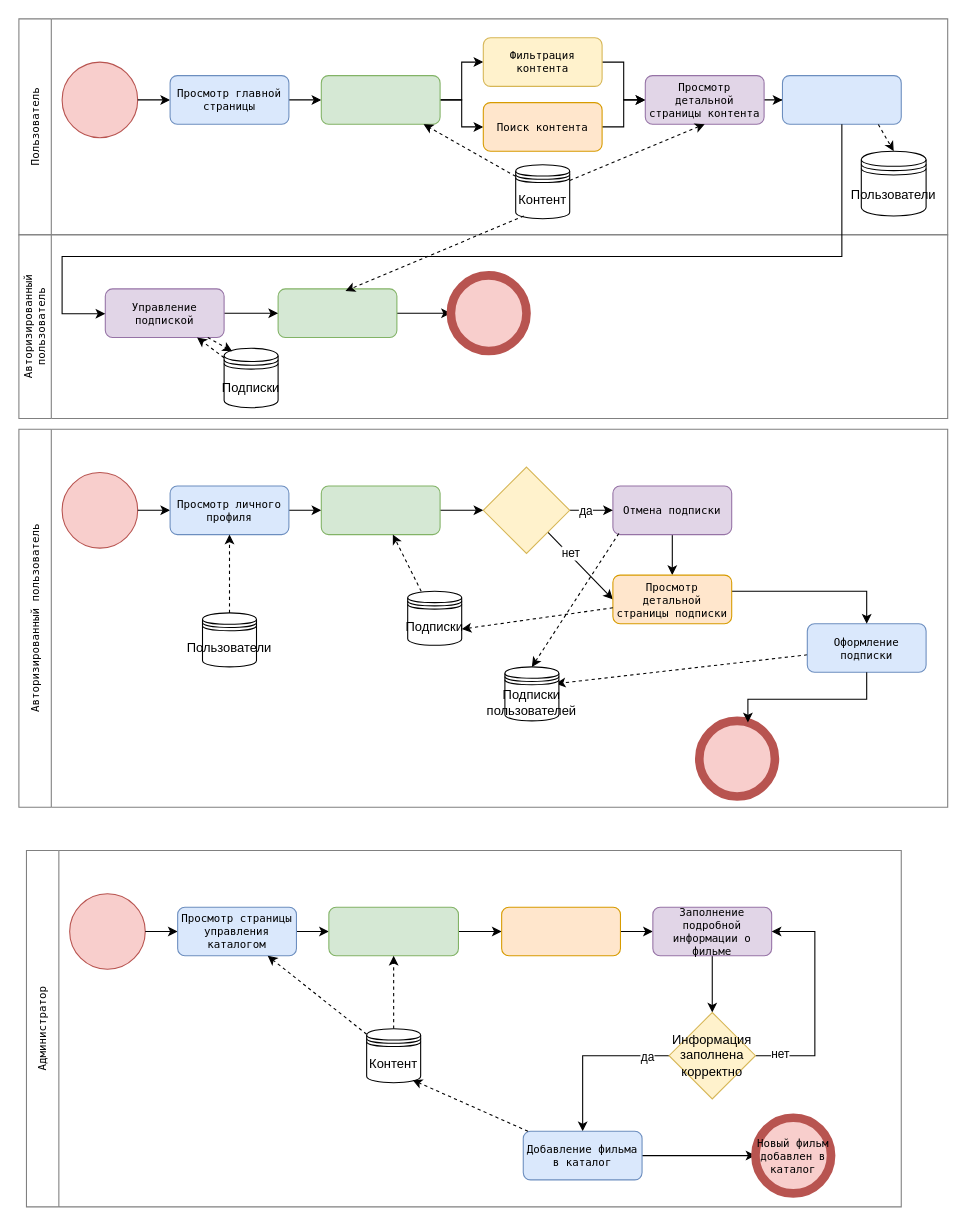
This 967x1226 diagram has some shape labels left out. Each missing label, with the centre of its shape:
"Желание оформить или отменить подписку" goes at (x=99, y=509).
"Желание посмотреть фильм" goes at (x=99, y=99).
"Загрузка видео файла" goes at (x=560, y=931).
"Исполненное желание оформить подписку" goes at (x=736, y=758).
"Исполненное желание посмотреть фильм" goes at (x=488, y=313).
"Необходимость добавить новый фильм в каталог" goes at (x=107, y=931).
"Подписка оформлена" goes at (x=526, y=510).
"Просмотр видео контента" goes at (x=337, y=313).
"Просмотр каталога" goes at (x=380, y=99).
"Просмотр страницы добавления контента в каталог" goes at (x=393, y=931).
"Просмотр страницы с информацией о подписках" goes at (x=380, y=510).
"Регистрация или вход в систему" goes at (x=841, y=99).
